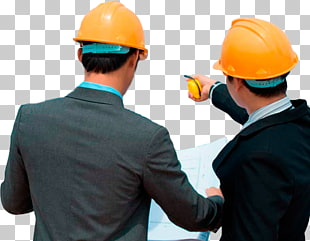casco: (212, 17, 299, 89), (72, 1, 149, 62)
